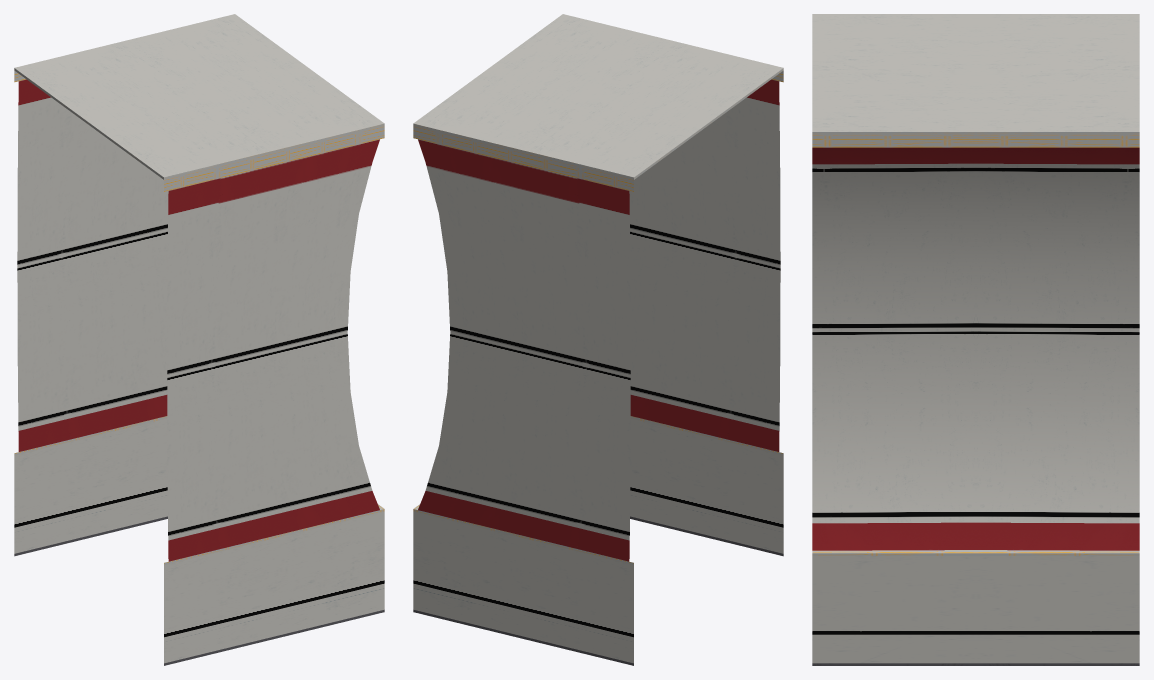
The model's file is G_Env_Arch_Wall_01_Connector.fbx.
The picture shows the model from 3 angles, left to right: view 1: azimuth 30°, elevation 25°; view 2: azimuth 150°, elevation 25°; view 3: azimuth 270°, elevation 25°; orthographic projection. The views are drawn at different scales.
Parts seen in each view (by area): view 1: G_Env_Arch_Wall_01_Connector; view 2: G_Env_Arch_Wall_01_Connector; view 3: G_Env_Arch_Wall_01_Connector.
Part boxes in pixels (bbox=[...]): G_Env_Arch_Wall_01_Connector: bbox=[14, 14, 384, 665]; G_Env_Arch_Wall_01_Connector: bbox=[413, 14, 783, 665]; G_Env_Arch_Wall_01_Connector: bbox=[812, 14, 1139, 665].
Bounding box in the file's own units: 426 × 900 × 500.
